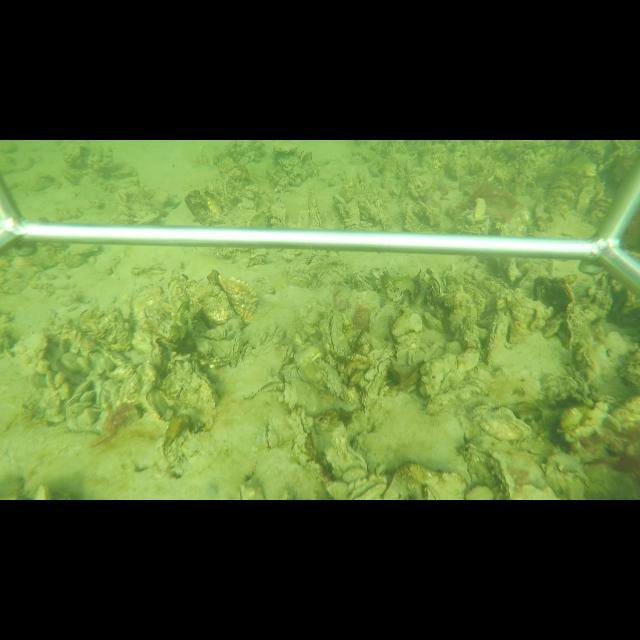Oyster-Closed: (162, 359, 218, 431), (454, 441, 517, 497), (468, 405, 534, 443), (363, 355, 392, 417), (320, 309, 352, 360), (130, 283, 164, 331), (367, 303, 401, 350), (486, 313, 510, 366), (117, 370, 143, 406), (98, 378, 117, 411), (131, 262, 170, 275)
Oyster-Open: (345, 479, 386, 499), (258, 420, 278, 450)
